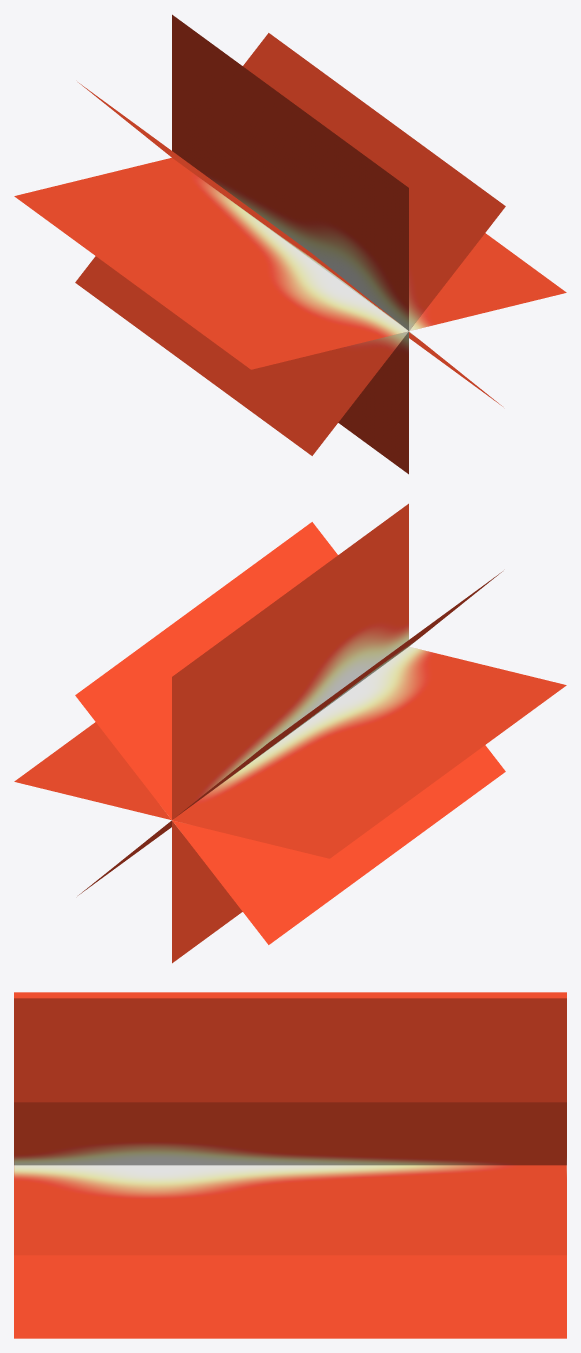
File: Hover_fire_single.obj
The picture shows the model from 3 angles, top to bottom: view 1: azimuth 30°, elevation 25°; view 2: azimuth 150°, elevation 25°; view 3: azimuth 270°, elevation 25°; orthographic projection. The views are drawn at different scales.
Parts seen in each view (by area): view 1: new_enginefire_new; view 2: new_enginefire_new; view 3: new_enginefire_new.
Part boxes in pixels (bbox=[...]): new_enginefire_new: bbox=[14, 14, 566, 474]; new_enginefire_new: bbox=[14, 503, 566, 963]; new_enginefire_new: bbox=[14, 992, 566, 1338].
Bounding box in the file's own units: 28.82 × 25 × 37.5.
